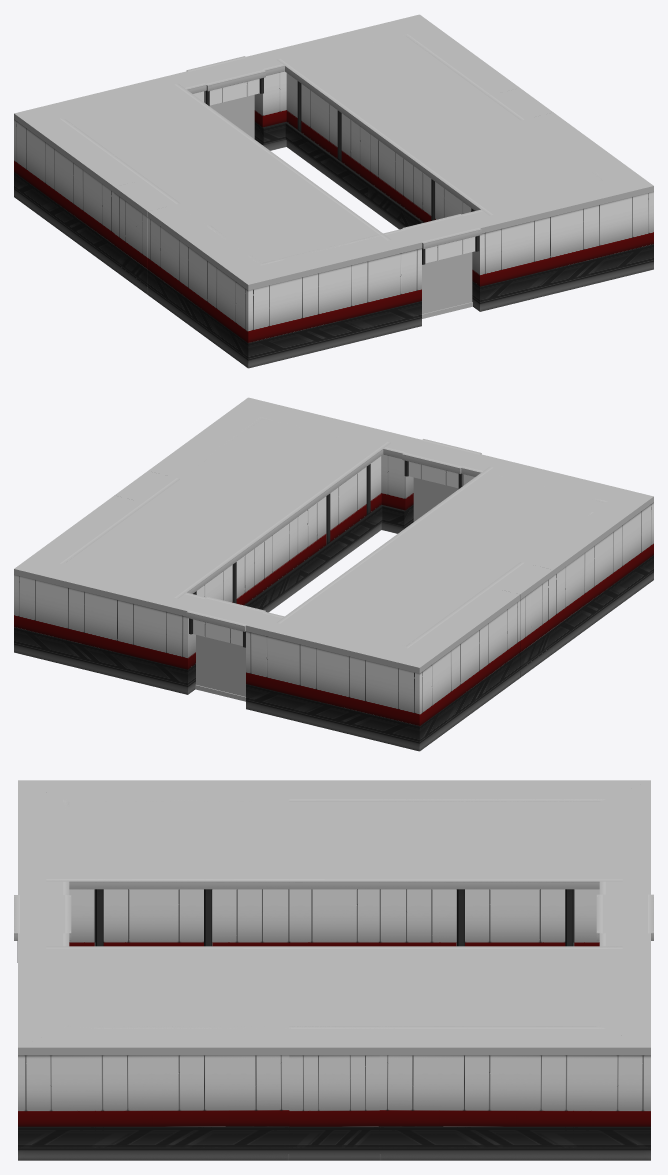
The model's file is Room12.FBX.
3 views of the same model, one above another, from view 1: azimuth 30°, elevation 25°; view 2: azimuth 150°, elevation 25°; view 3: azimuth 270°, elevation 25° (orthographic). The views are drawn at different scales.
Parts seen in each view (by area): view 1: Wall0 (×8), Wall3, Box503, Wall1, Box058, Box204, Box205, Box206, Box098, Box061; view 2: Wall0 (×8), Wall3, Box503, Wall1, Box204, Box058, Box061, Box060, Box098, Box205; view 3: Wall0 (×8), Box503, Wall3, Box098, Box058, Box204, Wall1.
Boxes of the visible parts, box(x1,y1,x2,y2) form: Wall0 (×8): box(14, 14, 653, 368); Wall3: box(277, 27, 622, 254); Box503: box(45, 83, 390, 340); Wall1: box(114, 179, 179, 294); Box058: box(186, 56, 265, 105); Box204: box(402, 214, 481, 264); Box205: box(443, 252, 472, 313); Box206: box(422, 259, 443, 318); Box098: box(488, 88, 553, 120); Box061: box(225, 94, 254, 138); Wall0 (×8): box(14, 397, 653, 751); Wall3: box(45, 410, 390, 637); Box503: box(277, 466, 622, 723); Wall1: box(487, 562, 553, 677); Box204: box(402, 439, 481, 488); Box058: box(186, 596, 265, 647); Box061: box(195, 635, 224, 696); Box060: box(224, 642, 245, 701); Box098: box(114, 471, 179, 503); Box205: box(413, 477, 442, 521); Wall0 (×8): box(18, 780, 650, 1160); Box503: box(46, 793, 622, 946); Wall3: box(46, 946, 622, 1126); Box098: box(289, 1026, 379, 1160); Box058: box(596, 894, 653, 940); Box204: box(14, 895, 71, 962); Wall1: box(289, 780, 379, 801).
Bounding box in the file's own units: 140 × 27.57 × 142.
